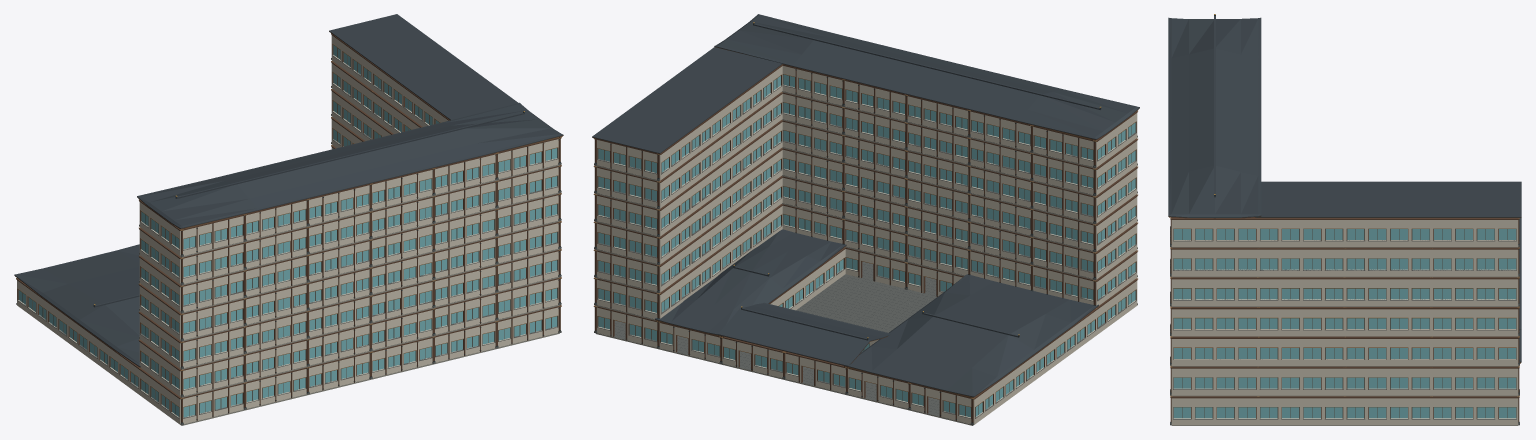
File: visual-far.glb
3 views of the same model, side by side, from view 1: azimuth 30°, elevation 25°; view 2: azimuth 150°, elevation 25°; view 3: azimuth 270°, elevation 25° (orthographic). The views are drawn at different scales.
Parts seen in each view (by area): view 1: 参数墙 · 独立窗玻璃 (×59), 连续屋面 · hip (×2), 连续屋面 · flat; view 2: 参数墙 · 独立窗玻璃 (×66), 连续屋面 · hip (×3), 参数墙 · 通行门洞 (×8), 连续屋面 · flat, 连续屋面 · gable, 石铺面与混凝土楼板 (×3); view 3: 参数墙 · 独立窗玻璃 (×28), 连续屋面 · hip, 连续屋面 · flat.
Boxes of the visible parts, left/top/right/bottom form: 参数墙 · 独立窗玻璃 (×59): left=16, top=33, right=559, bottom=424; 连续屋面 · hip (×2): left=14, top=102, right=563, bottom=368; 连续屋面 · flat: left=329, top=14, right=518, bottom=120; 参数墙 · 独立窗玻璃 (×66): left=596, top=64, right=1137, bottom=424; 连续屋面 · hip (×3): left=655, top=14, right=1139, bottom=398; 参数墙 · 通行门洞 (×8): left=596, top=247, right=971, bottom=423; 连续屋面 · flat: left=592, top=47, right=782, bottom=154; 连续屋面 · gable: left=718, top=302, right=889, bottom=366; 石铺面与混凝土楼板 (×3): left=796, top=274, right=936, bottom=326; 参数墙 · 独立窗玻璃 (×28): left=1171, top=217, right=1518, bottom=425; 连续屋面 · hip: left=1168, top=14, right=1261, bottom=218; 连续屋面 · flat: left=1255, top=181, right=1521, bottom=217.
Bounding box in the file's own units: 60 × 31.68 × 45.2.
18 materials, 18 textured.
